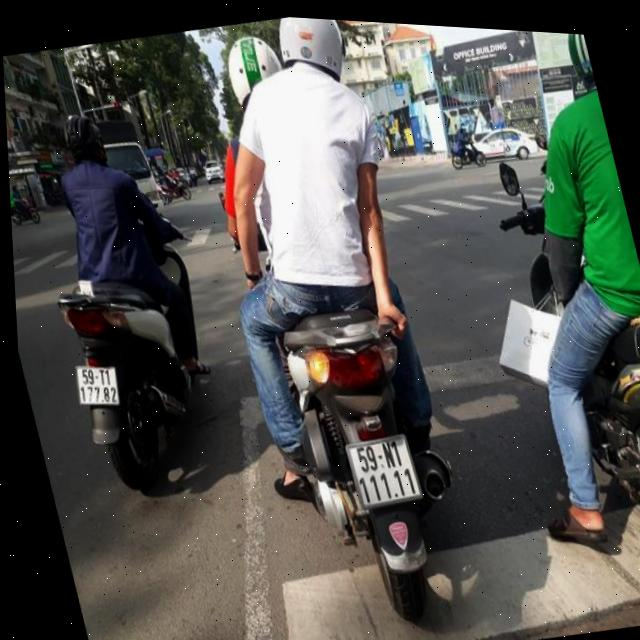car: (464, 111, 539, 169)
motorcycle: (259, 283, 483, 640), (43, 253, 239, 510), (339, 422, 427, 519)
plate: (340, 423, 428, 517), (67, 351, 128, 418)
